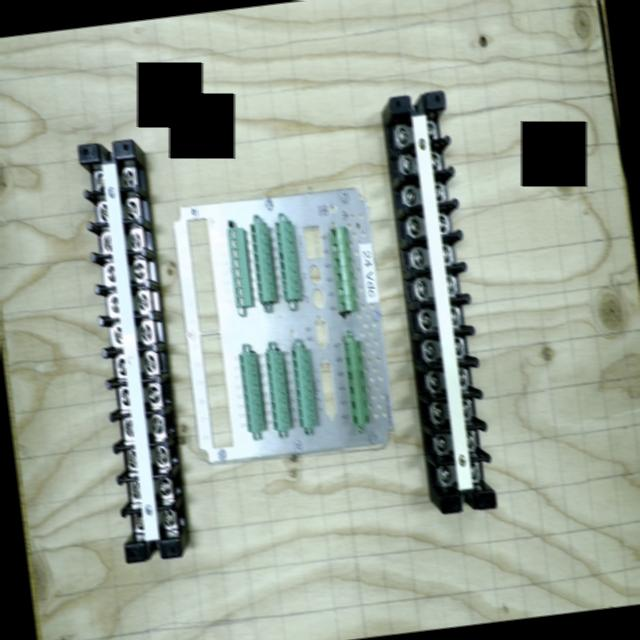Flathead_Block: (389, 90, 497, 514)
Phillips_Block: (77, 139, 181, 563)
Terminal_1: (342, 339, 370, 425), (329, 226, 357, 311)
Terminal_2: (274, 219, 301, 300), (249, 221, 276, 302), (238, 351, 264, 432), (290, 347, 316, 427), (264, 350, 290, 430)
